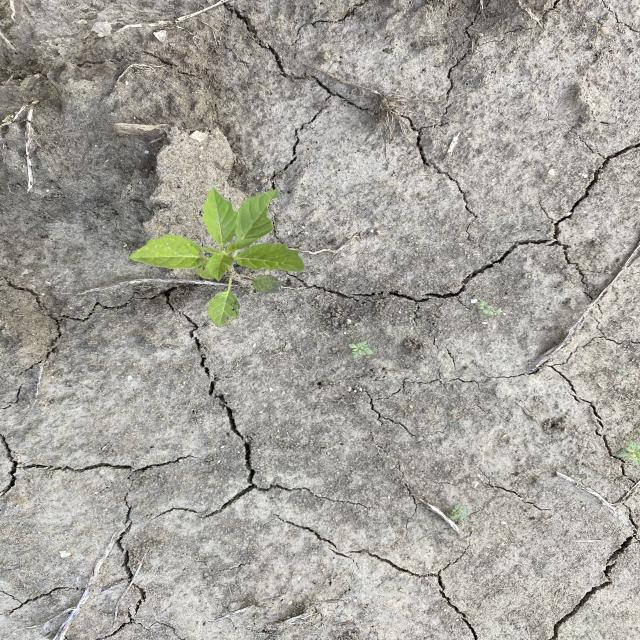CutleafGroundcherry: (127, 186, 309, 330)
